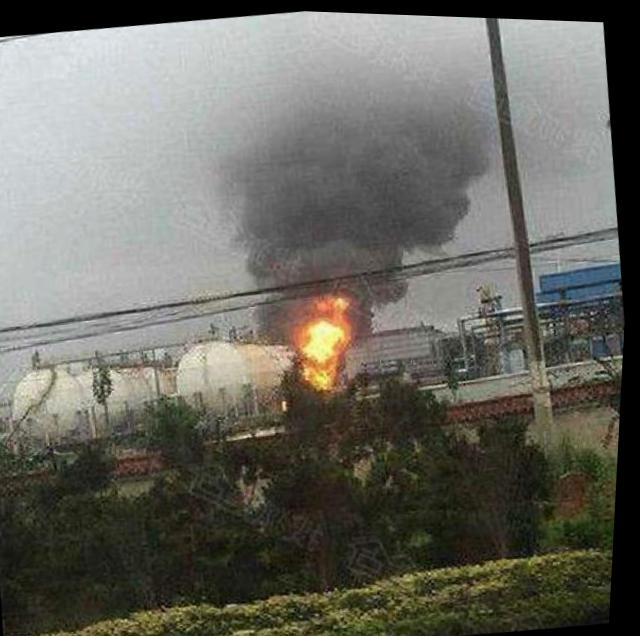fire: (300, 308, 359, 389)
